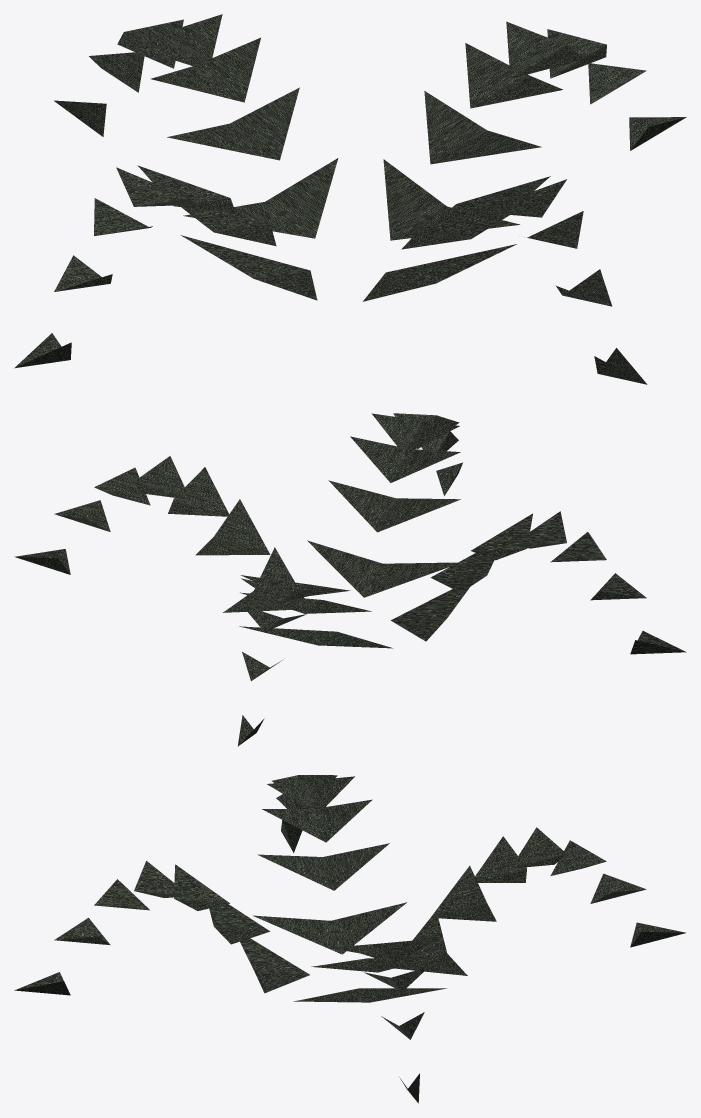
Rendered from fern.glb.
3 views of the same model, one above another, from view 1: azimuth 30°, elevation 25°; view 2: azimuth 150°, elevation 25°; view 3: azimuth 270°, elevation 25° (orthographic). The views are drawn at different scales.
Visible parts, largest first — view 1: Dry_Fern; view 2: Dry_Fern; view 3: Dry_Fern.
Boxes of the visible parts, bbox=[...] form: Dry_Fern: bbox=[14, 14, 686, 384]; Dry_Fern: bbox=[14, 413, 686, 746]; Dry_Fern: bbox=[14, 775, 686, 1103].
Bounding box in the file's own units: 0.9286 × 0.1658 × 0.9286.
Materials: 1 (1 with a texture image).
